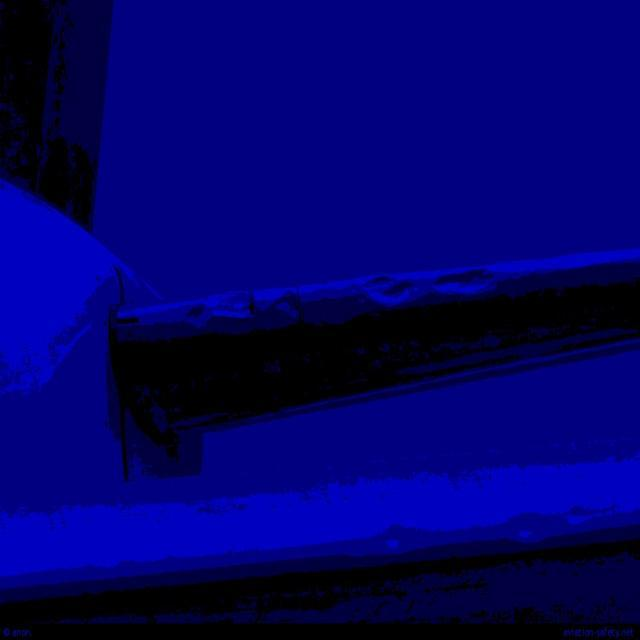dent: (359, 262, 502, 310), (190, 297, 255, 333), (271, 288, 302, 327)
